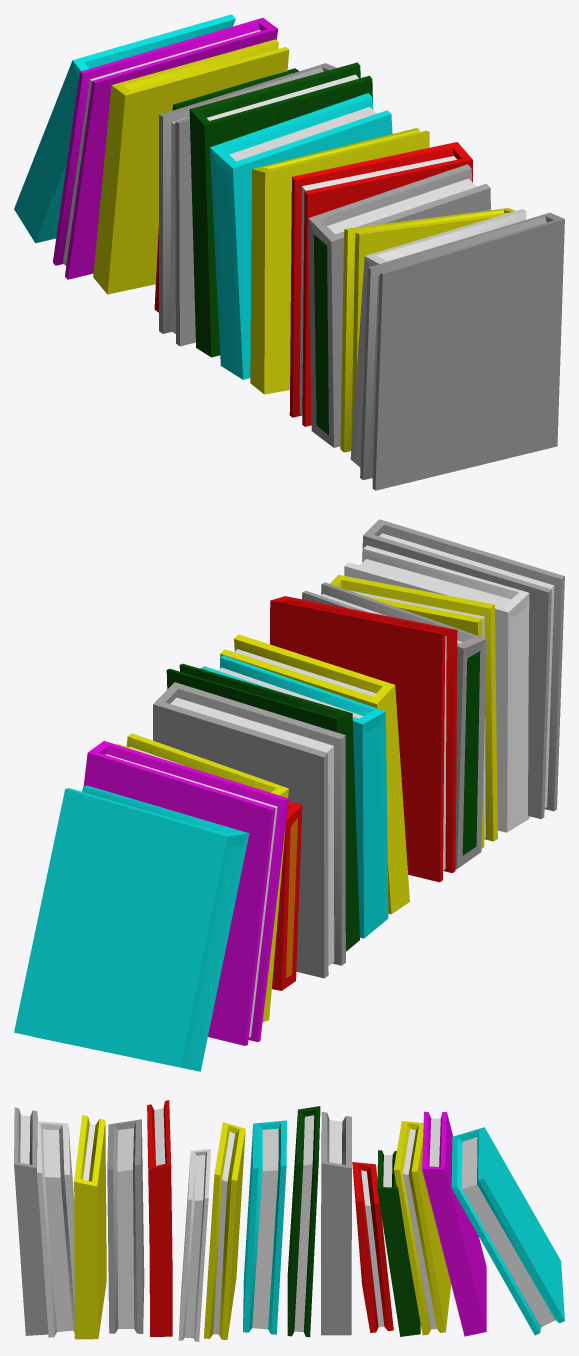
File: Books_1.fbx
3 views of the same model, one above another, from view 1: azimuth 30°, elevation 25°; view 2: azimuth 150°, elevation 25°; view 3: azimuth 270°, elevation 25° (orthographic). The views are drawn at different scales.
Parts seen in each view (by area): view 1: Books_1; view 2: Books_1; view 3: Books_1.
Part boxes in pixels (x1,y1,x2,y2): Books_1: [14, 14, 564, 490]; Books_1: [14, 519, 564, 1071]; Books_1: [14, 1100, 564, 1341].
Size of the model in its own units: 29.17 by 35.52 by 97.55.
